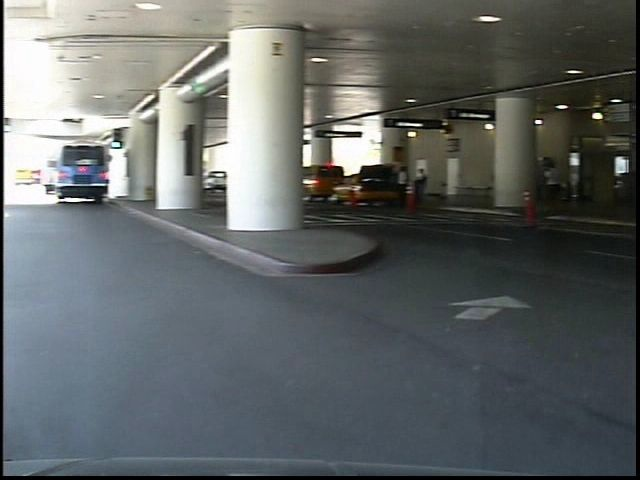person: (544, 158, 570, 210)
